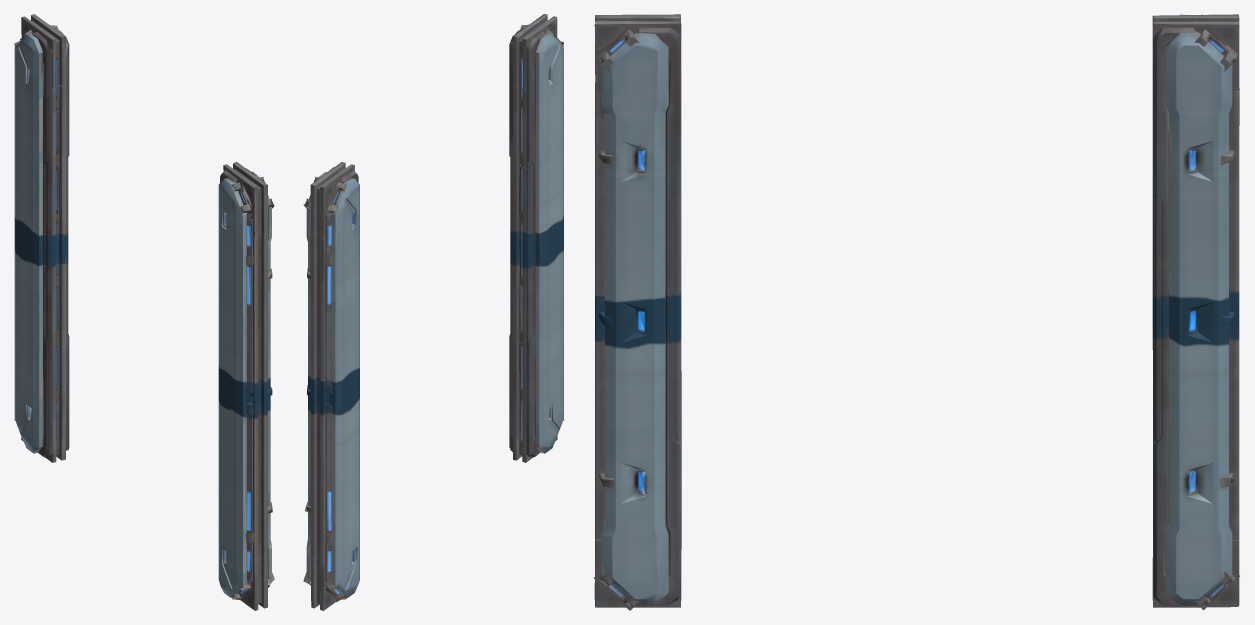
The model's file is BP_DoubleDoorframe_Tek_C.glb.
3 views of the same model, side by side, from view 1: azimuth 30°, elevation 25°; view 2: azimuth 150°, elevation 25°; view 3: azimuth 270°, elevation 25° (orthographic). The views are drawn at different scales.
Visible parts, largest first — view 1: SM_Tek_WallDoorwayDouble; view 2: SM_Tek_WallDoorwayDouble; view 3: SM_Tek_WallDoorwayDouble.
Part boxes in pixels (x1,y1,x2,y2): SM_Tek_WallDoorwayDouble: (14,14,274,610); SM_Tek_WallDoorwayDouble: (303,14,564,610); SM_Tek_WallDoorwayDouble: (594,14,1239,610).
Bounding box in the file's own units: 0.2738 × 3.01 × 3.02.
1 material, 1 textured.
